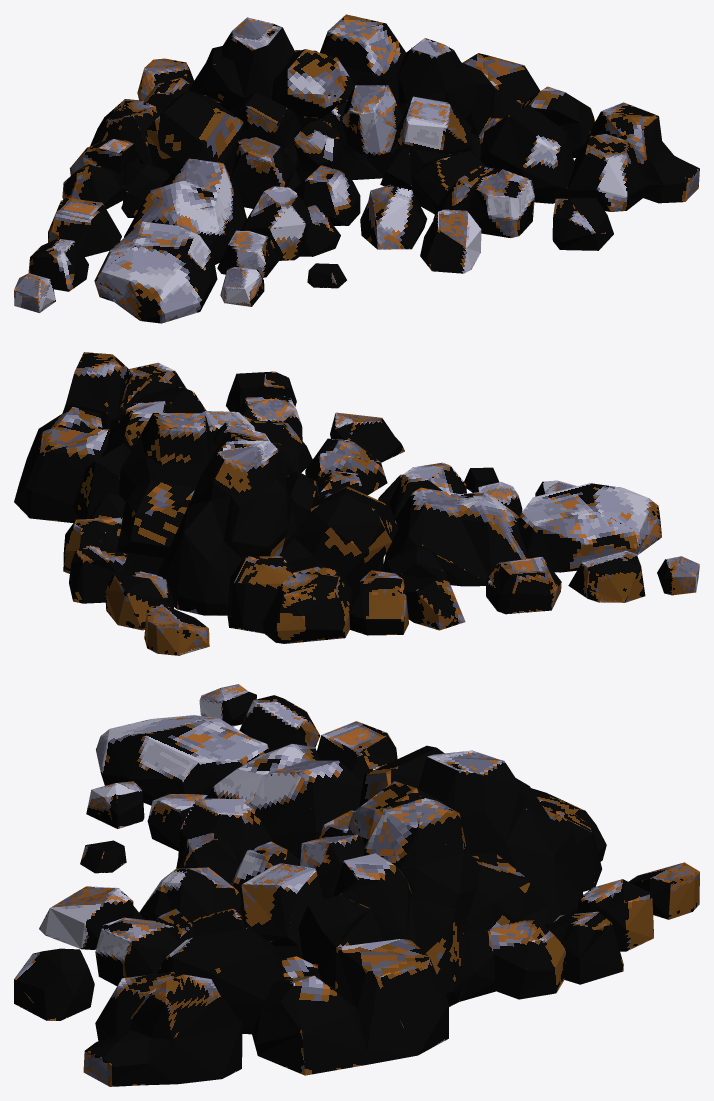
3 renders of one model, top to bottom at view 1: azimuth 30°, elevation 25°; view 2: azimuth 150°, elevation 25°; view 3: azimuth 270°, elevation 25°, orthographic. The views are drawn at different scales.
Parts seen in each view (by area): view 1: OBJ0d0; view 2: OBJ0d0; view 3: OBJ0d0.
Boxes of the visible parts, x1,y1,x2,y2 form: OBJ0d0: [14, 14, 699, 323]; OBJ0d0: [14, 352, 699, 655]; OBJ0d0: [14, 684, 699, 1086].
Bounding box in the file's own units: 0.6407 × 0.1199 × 0.4877.
1 material, 1 textured.
